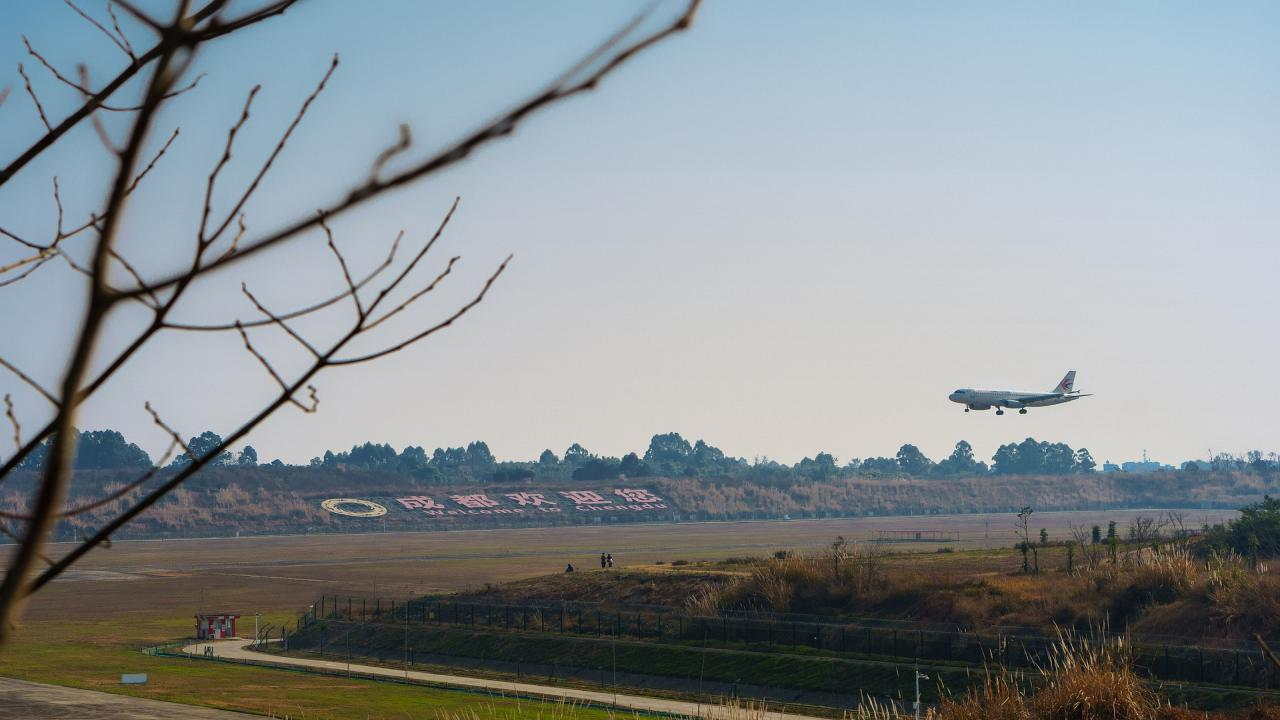Airplane: (931, 360, 1107, 426)
